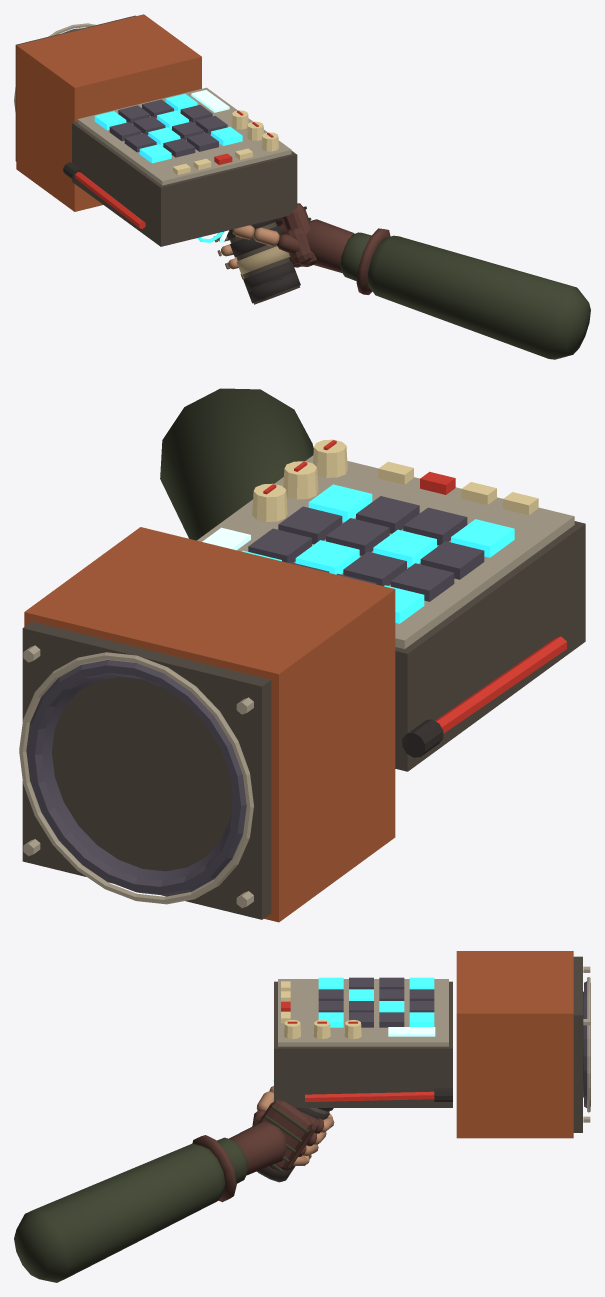
Rendered from maschine.glb.
3 views of the same model, one above another, from view 1: azimuth 30°, elevation 25°; view 2: azimuth 150°, elevation 25°; view 3: azimuth 270°, elevation 25° (orthographic). The views are drawn at different scales.
Parts seen in each view (by area): view 1: Parts_Veneer, Parts_Worn jacket, Parts_Old black iron.001, Parts_Galvanized pipe, Parts_Fingerless wool glove, Parts_Rubber drum pads, Parts_Cyan beat pads, Parts_Gaffer tape, Parts_Dirty bone plastic, Parts_Sign paint, Parts_Grimy skin, Parts_Old black iron (+2 smaller); view 2: Parts_Old black iron.001, Parts_Veneer, Parts_Rubber drum pads, Parts_Galvanized pipe, Parts_Worn jacket, Parts_Cyan beat pads, Parts_Dirty bone plastic, Parts_Sign paint, Parts_Gaffer tape.001; view 3: Parts_Veneer, Parts_Worn jacket, Parts_Old black iron.001, Parts_Galvanized pipe, Parts_Fingerless wool glove, Parts_Rubber drum pads, Parts_Cyan beat pads, Parts_Sign paint, Parts_Dirty bone plastic, Parts_Grimy skin, Parts_Gaffer tape, Parts_Electrical beat.
Part boxes in pixels (x1,y1,x2,y2): Parts_Veneer: (16, 14, 201, 211); Parts_Worn jacket: (304, 206, 590, 359); Parts_Old black iron.001: (15, 15, 297, 246); Parts_Galvanized pipe: (14, 23, 291, 185); Parts_Fingerless wool glove: (276, 203, 390, 294); Parts_Rubber drum pads: (63, 28, 227, 157); Parts_Cyan beat pads: (94, 94, 242, 163); Parts_Gaffer tape: (227, 219, 300, 303); Parts_Dirty bone plastic: (173, 110, 278, 175); Parts_Sign paint: (75, 110, 273, 228); Parts_Grimy skin: (217, 225, 279, 278); Parts_Old black iron: (229, 222, 299, 304); Parts_Old black iron.001: (22, 521, 585, 919); Parts_Veneer: (24, 527, 395, 922); Parts_Rubber drum pads: (27, 496, 484, 895); Parts_Galvanized pipe: (19, 455, 574, 908); Parts_Worn jacket: (160, 388, 313, 540); Parts_Cyan beat pads: (242, 484, 514, 623); Parts_Dirty bone plastic: (252, 439, 538, 521); Parts_Sign paint: (263, 440, 566, 733); Parts_Gaffer tape.001: (402, 719, 443, 757); Parts_Veneer: (456, 951, 573, 1138); Parts_Worn jacket: (14, 1105, 308, 1282); Parts_Old black iron.001: (274, 956, 582, 1132); Parts_Galvanized pipe: (278, 966, 590, 1122); Parts_Fingerless wool glove: (192, 1100, 323, 1202); Parts_Rubber drum pads: (318, 977, 590, 1107); Parts_Cyan beat pads: (318, 977, 434, 1027); Parts_Sign paint: (281, 1001, 434, 1101); Parts_Dirty bone plastic: (281, 981, 361, 1039); Parts_Grimy skin: (256, 1086, 334, 1165); Parts_Gaffer tape: (258, 1108, 333, 1181); Parts_Electrical beat: (388, 1027, 435, 1036).
Size of the model in its own units: 0.5486 by 0.3054 by 0.8376.
